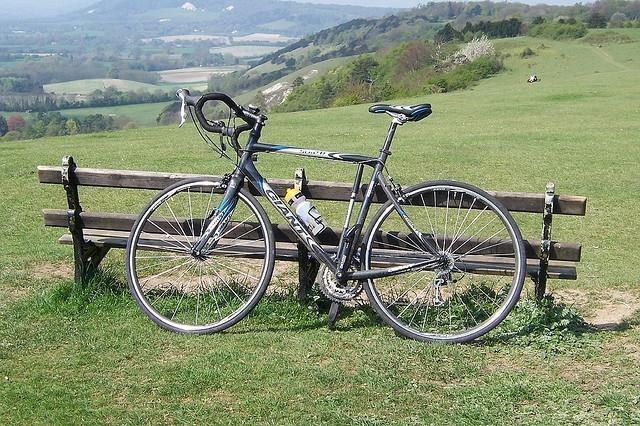bicycle: (129, 86, 527, 342)
